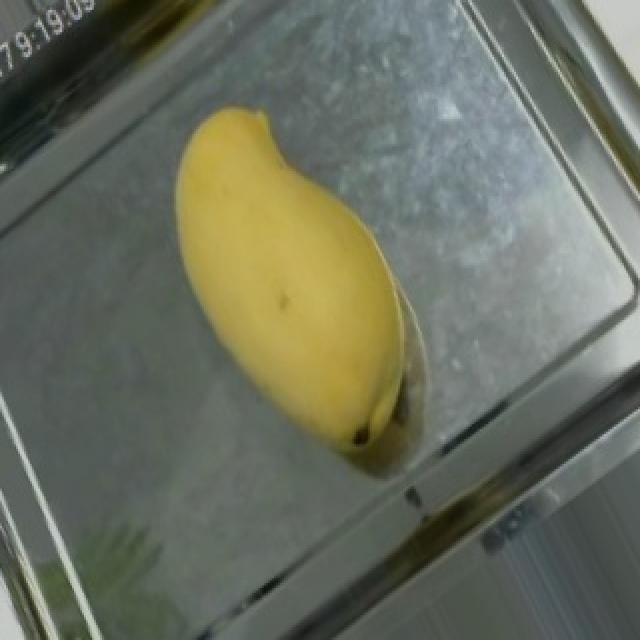fruit: (100, 72, 486, 479)
